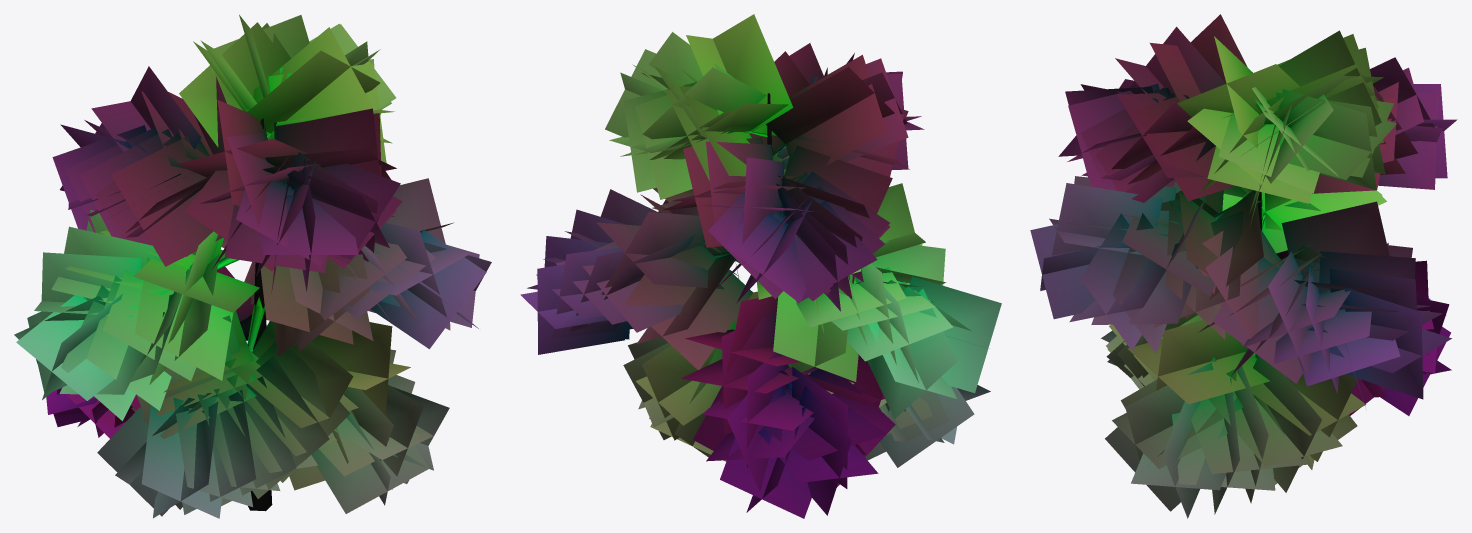
The model's file is URP_P14_Tree_1_LOD_3.fbx.
3 renders of one model, left to right at view 1: azimuth 30°, elevation 25°; view 2: azimuth 150°, elevation 25°; view 3: azimuth 270°, elevation 25°, orthographic. The views are drawn at different scales.
Parts seen in each view (by area): view 1: Tree_1_LOD_3; view 2: Tree_1_LOD_3; view 3: Tree_1_LOD_3.
Part boxes in pixels (box(x1,y1,x2,y2)): Tree_1_LOD_3: box(14, 14, 491, 518); Tree_1_LOD_3: box(520, 14, 1001, 518); Tree_1_LOD_3: box(1030, 14, 1457, 518).
Bounding box in the file's own units: 437 × 456 × 379.
